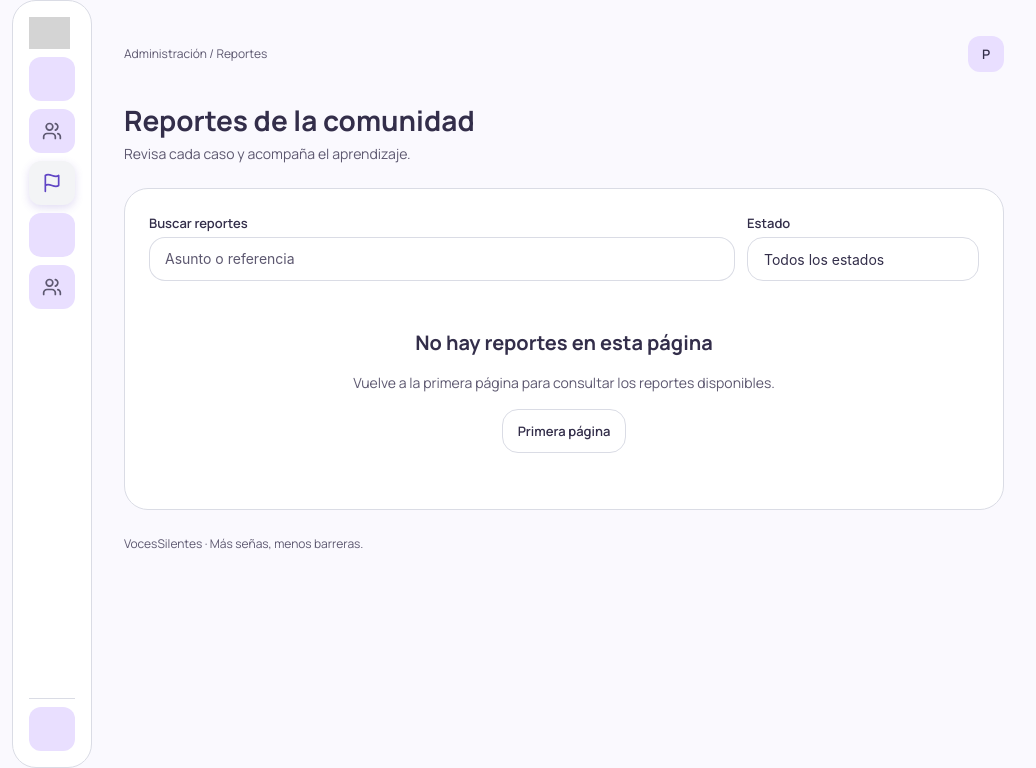
it: reports: distingue página fuera de rango y recupera primera página
This screenshot has width=1036, height=768.
Expected: the button "Siguiente" is not shown
Click the button "Primera página" at (564, 431), box [502,409,626,453]
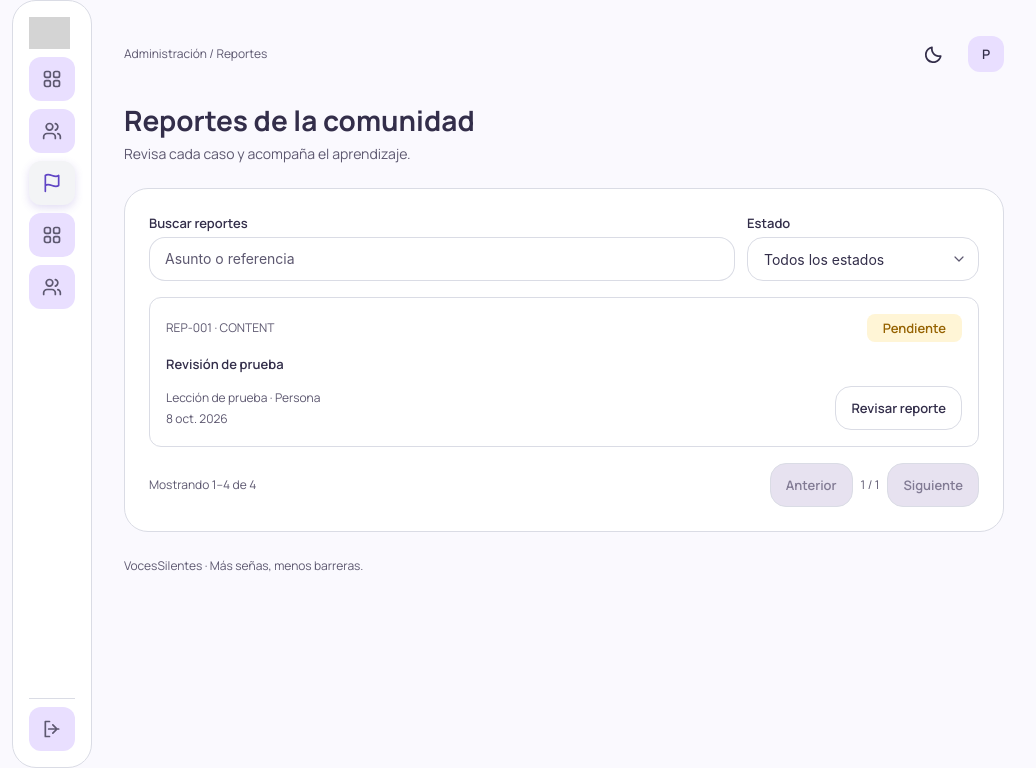
Expected: the heading "Revisión de prueba" is shown, [166,355,284,373]
